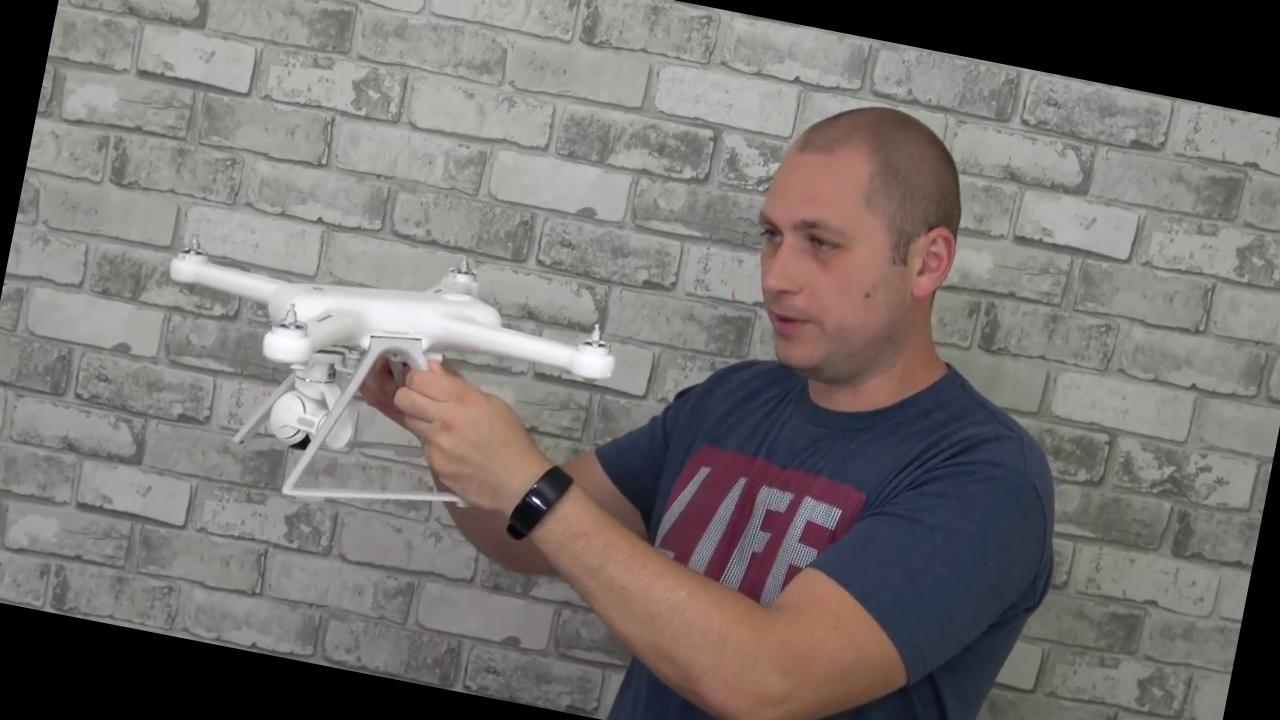drone: (125, 200, 670, 448)
